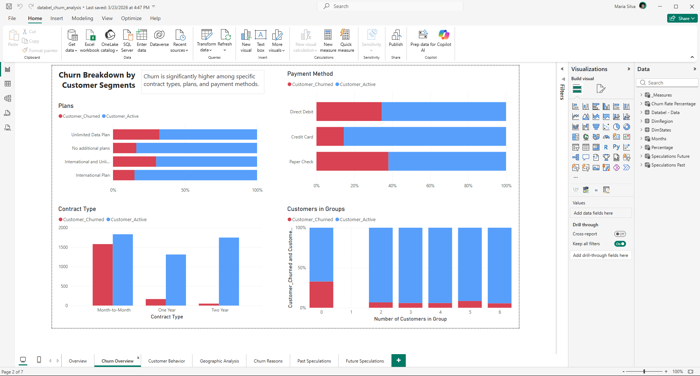

This screenshot's page, from the dashboard's own definition file:
{"tool":"powerbi","page":{"name":"Trends","canvas":[1280,720],"ordinal":2},"visuals":[{"type":"clusteredBarChart","fields":{"Category":["Databel - Data.Plans"],"Y":["Databel - Data.Churned Customers","_Measures.CustomersActiveTotal"]},"box":[0,0,598.6,283.4],"z":0},{"type":"clusteredColumnChart","fields":{"Category":["Databel - Data.Contract Type"],"Y":["Databel - Data.Churned Customers","_Measures.CustomersActiveTotal"]},"box":[761,342.8,519,376.8],"z":1000},{"type":"pieChart","fields":{"Category":["Databel - Data.Payment Method"],"Y":["Databel - Data.Total Customers"]},"box":[0,293,599,427],"z":2000},{"type":"clusteredColumnChart","fields":{"Y":["Databel - Data.Churned Customers","_Measures.CustomersActiveTotal"],"Category":["Databel - Data.Payment Method"]},"box":[761,0,519,342.8],"z":3000}]}

Visuals, with their boxes on the page's 1280x720 design canvas (x1, y1, x2, y2). These are canvas units, not pixel positions in the 700x376 screenshot, which may show the page scaled, cropped or inside an application window:
clusteredBarChart - Databel - Data.Plans x Databel - Data.Churned Customers: crop(0, 0, 599, 283)
clusteredColumnChart - Databel - Data.Contract Type x Databel - Data.Churned Customers: crop(761, 343, 1280, 720)
pieChart - Databel - Data.Payment Method x Databel - Data.Total Customers: crop(0, 293, 599, 720)
clusteredColumnChart - Databel - Data.Churned Customers x _Measures.CustomersActiveTotal: crop(761, 0, 1280, 343)
